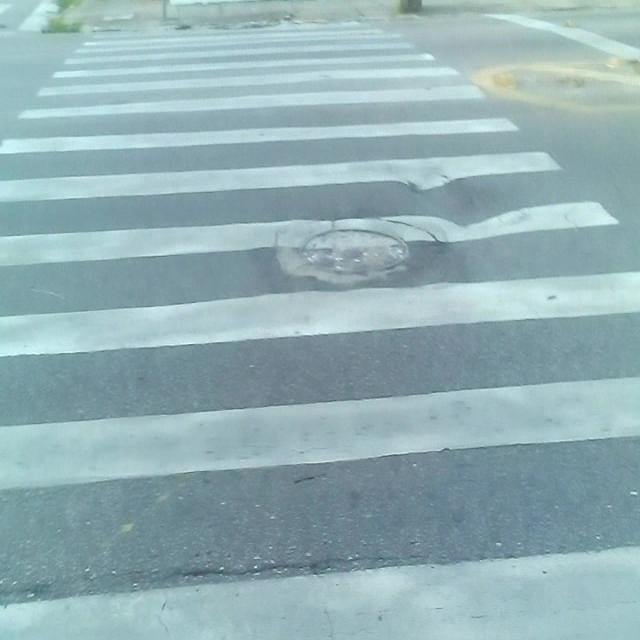crosswalk: (0, 17, 640, 640), (0, 0, 70, 33)
